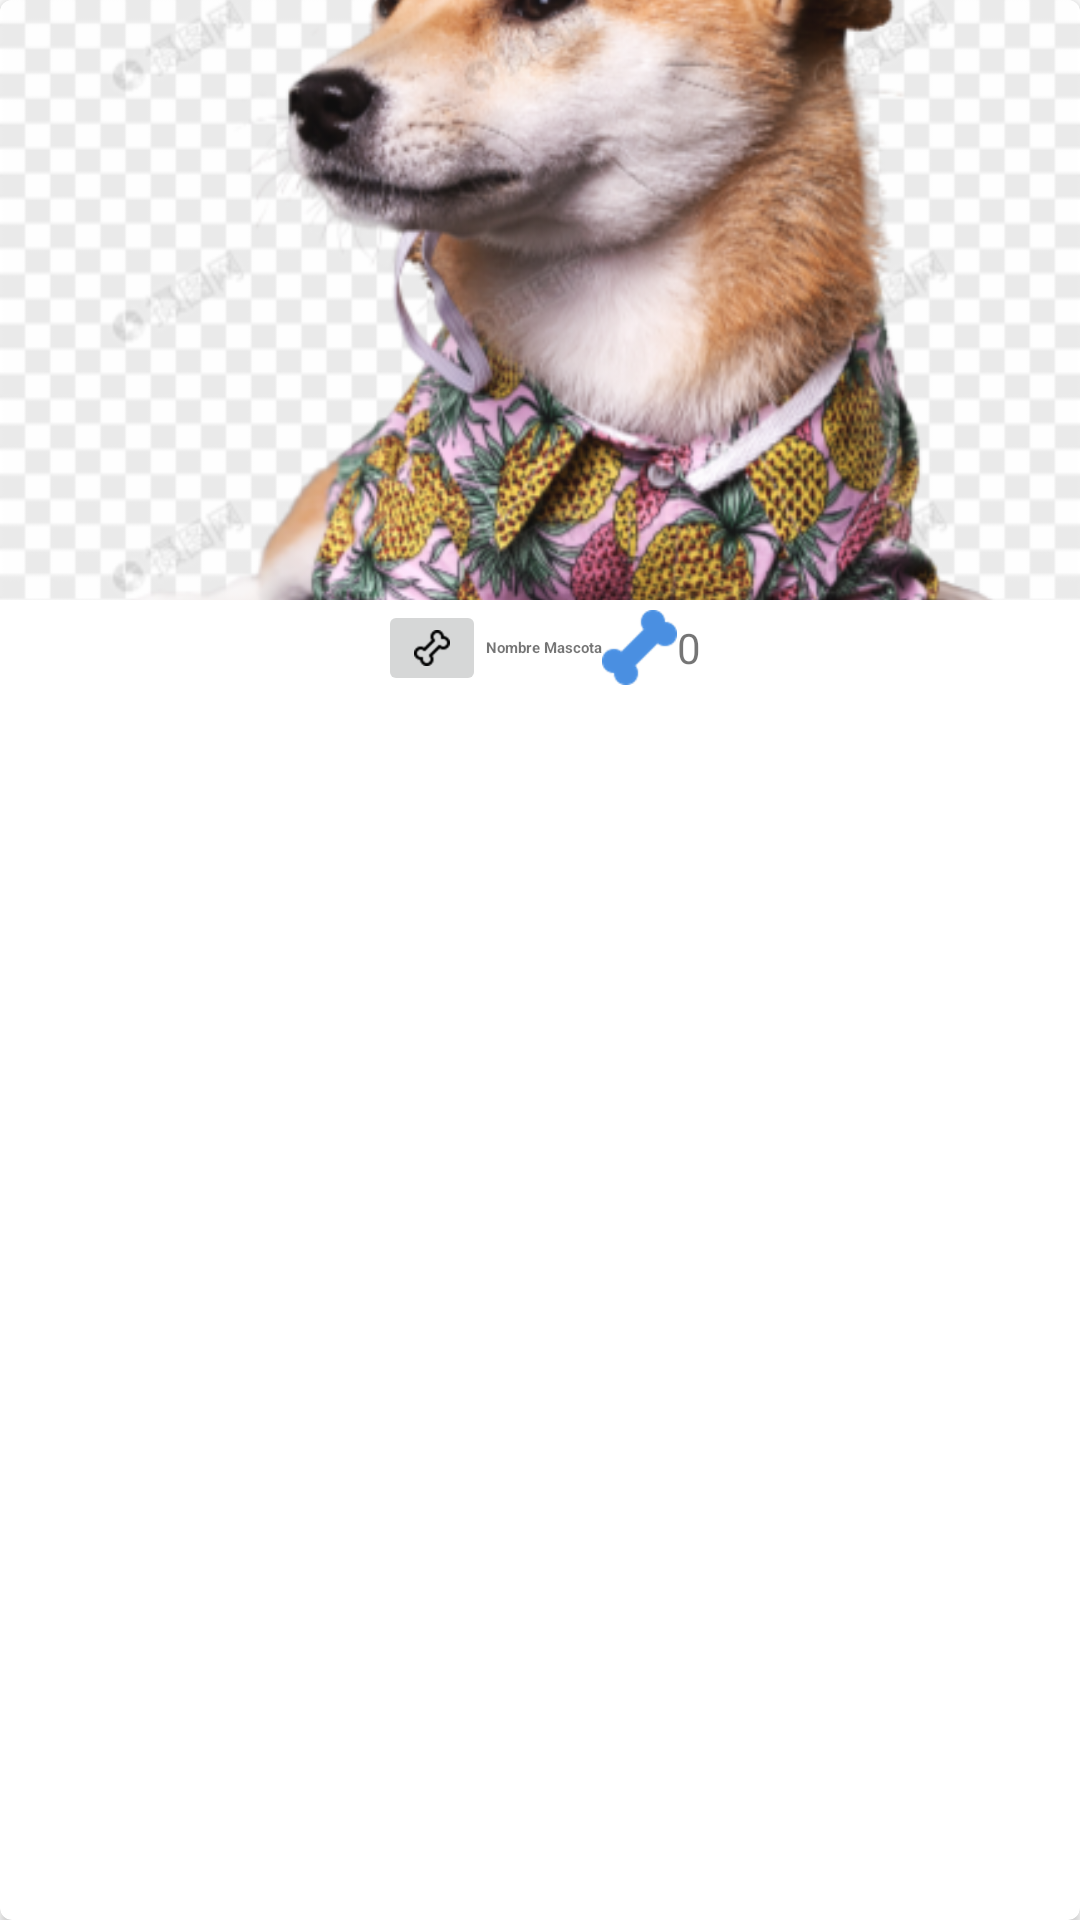

Screen size 1080px×1920px. Icon name, then its center in pixels as [x,y]:
hueso: [639,647], [432,648]
